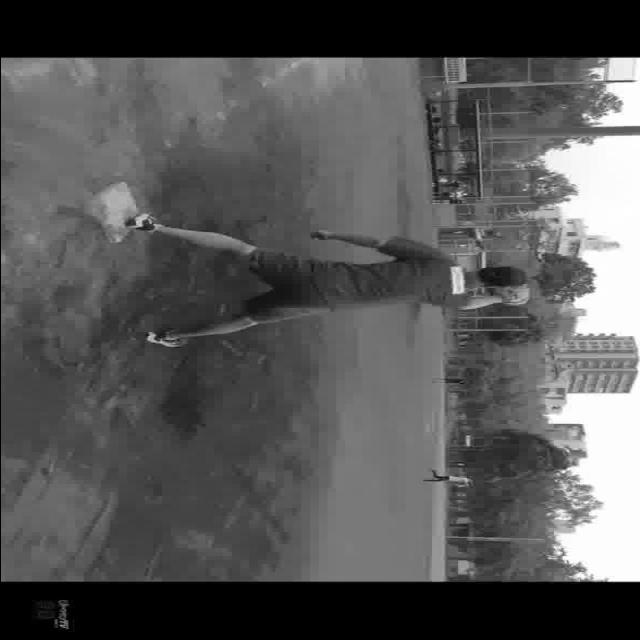base: (86, 182, 140, 242)
baseball_glove: (494, 280, 532, 308)
shoe: (139, 329, 189, 348), (126, 214, 162, 232)
